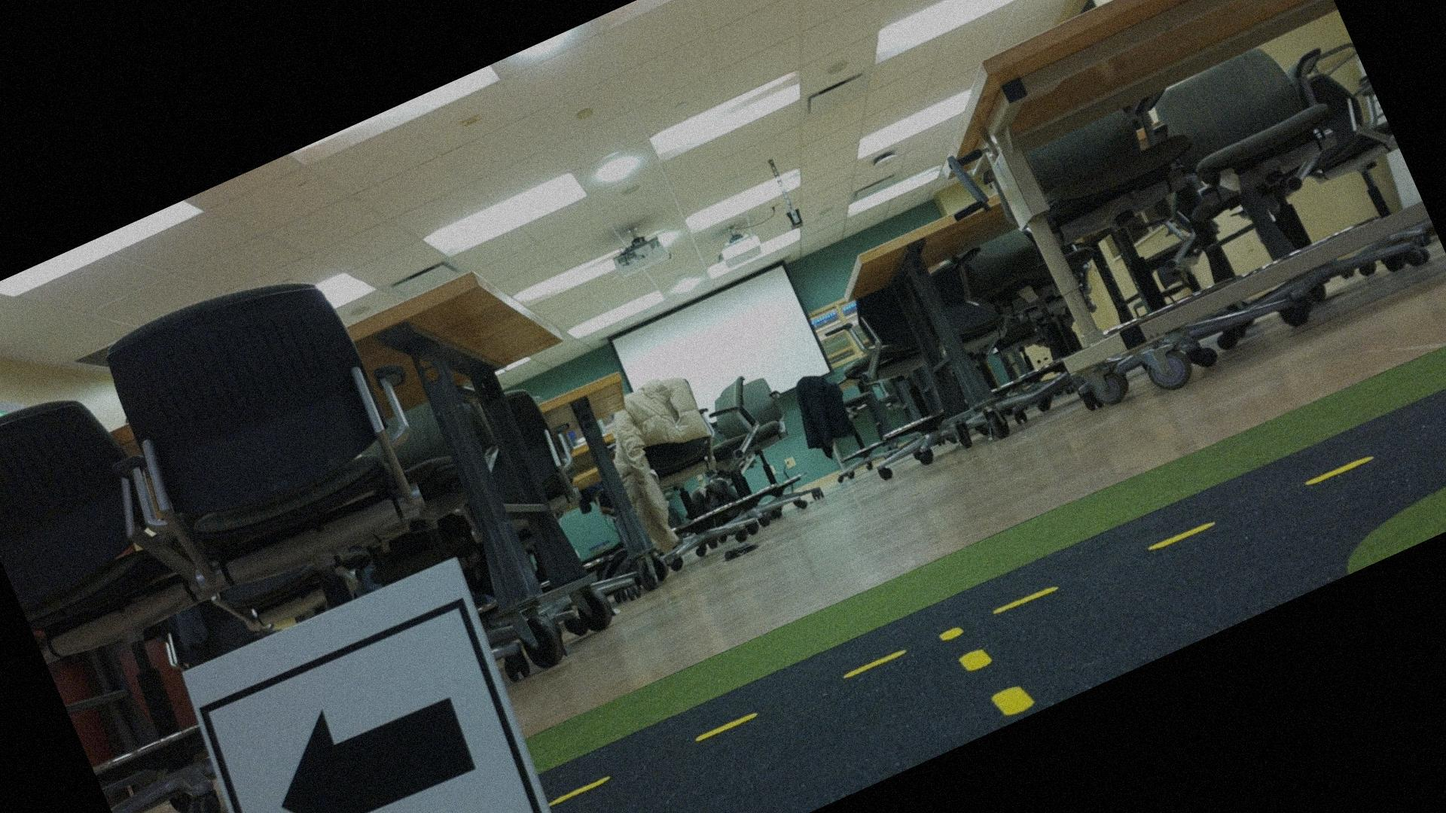turnleft: (185, 568, 568, 812)
yellowline: (549, 376, 1445, 812), (935, 605, 1039, 731)
